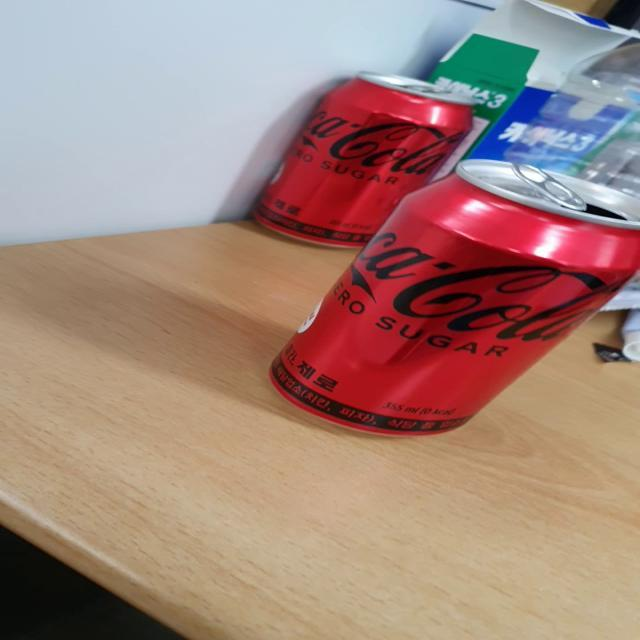coca-cola: (252, 156, 624, 468), (284, 59, 472, 244)
